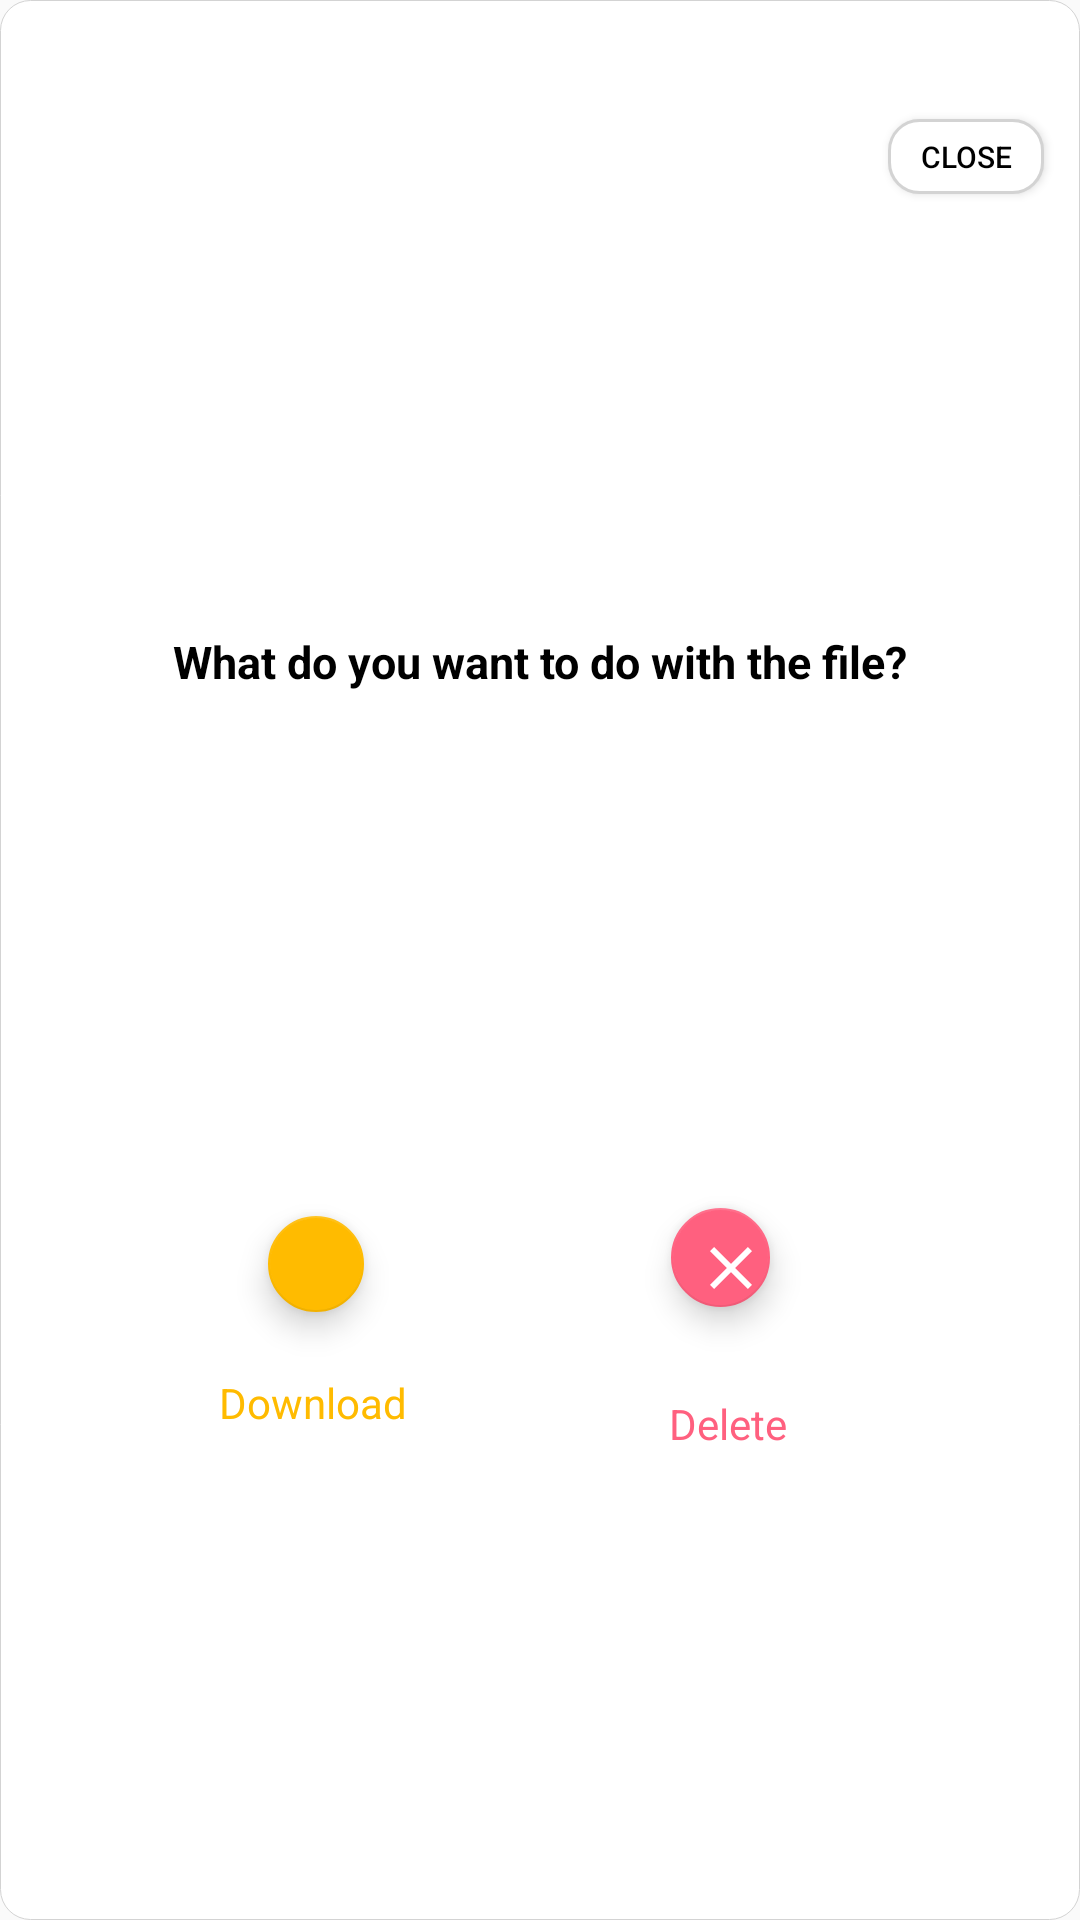

Screen size 1080px x 1920px. Icon name, then its box in pixels as (x1, y1, x2, y2):
clear: (671, 1208, 770, 1307)
